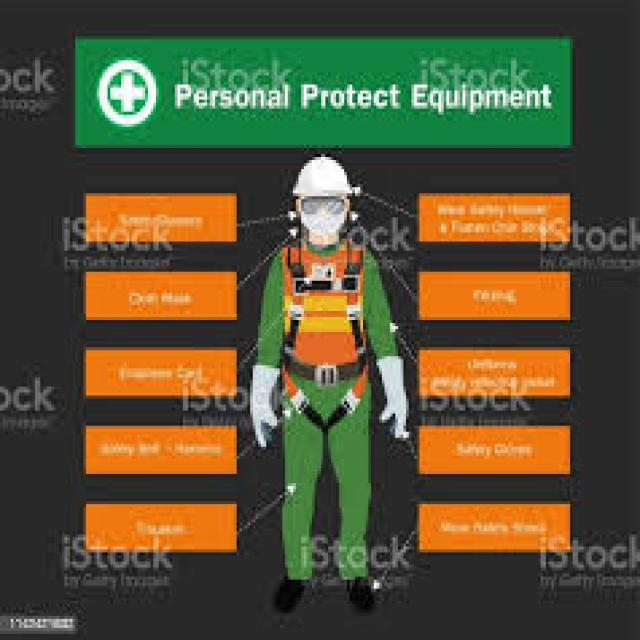Reflective-Jacket: (271, 235, 382, 410)
Safety-Helmet: (288, 151, 355, 205)
